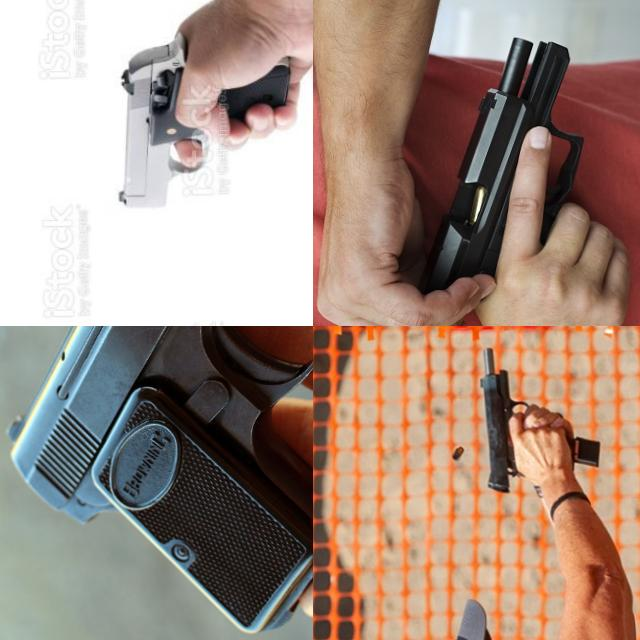handgun: (0, 326, 313, 640), (408, 32, 588, 300), (111, 24, 212, 211), (476, 342, 532, 496)
